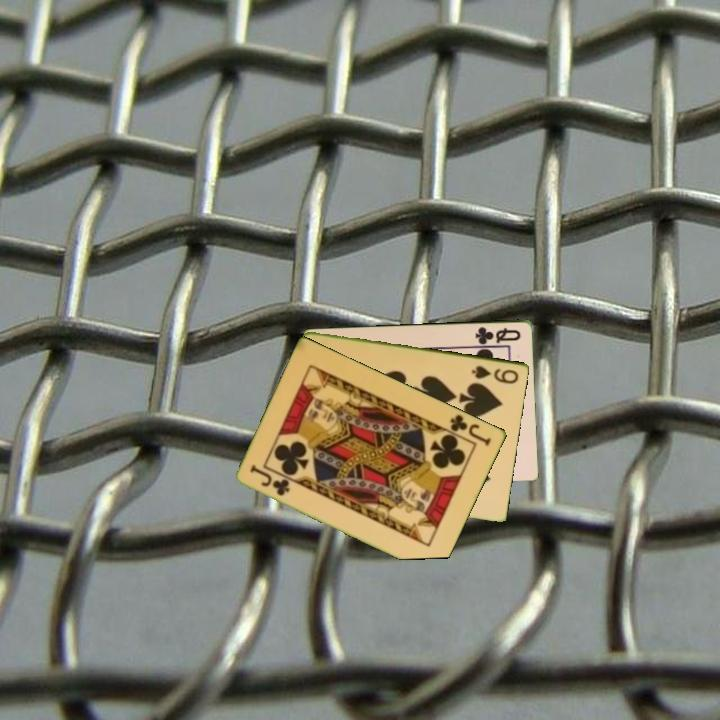9s: (468, 362, 522, 387)
Jc: (441, 411, 494, 449), (247, 461, 293, 499)
Qc: (472, 323, 524, 347)
